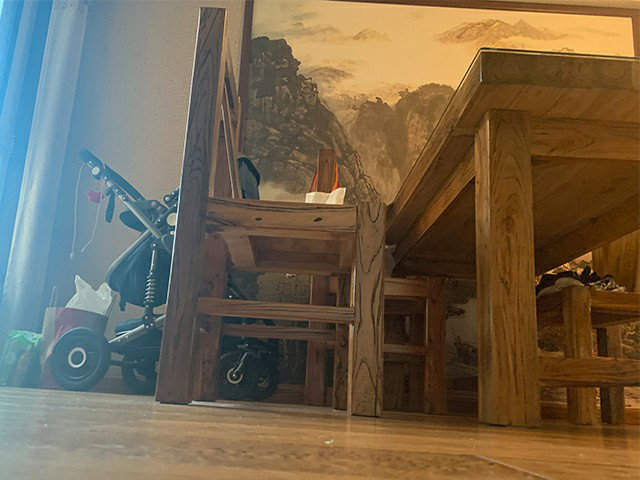stool: (154, 5, 388, 419), (303, 149, 451, 418), (535, 228, 640, 428)
table: (334, 47, 640, 426)
